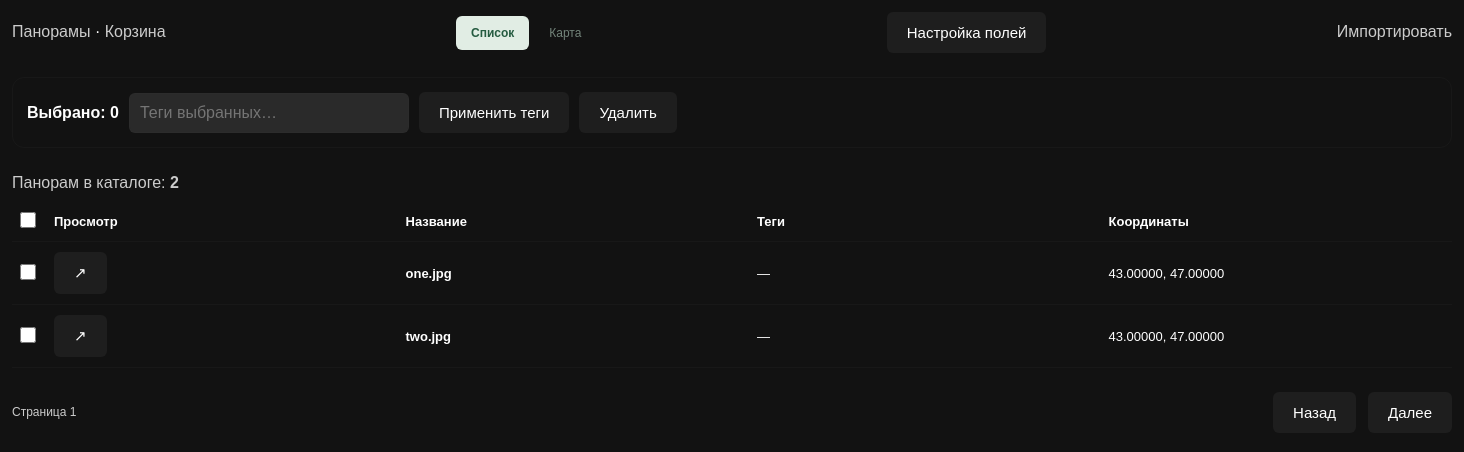
Test: delete uses reversible trash and deleted entries disappear from the list
Click the checkbox named "Выбрать one.jpg": point(28, 272) top-left (20, 264), bottom-right (36, 280)
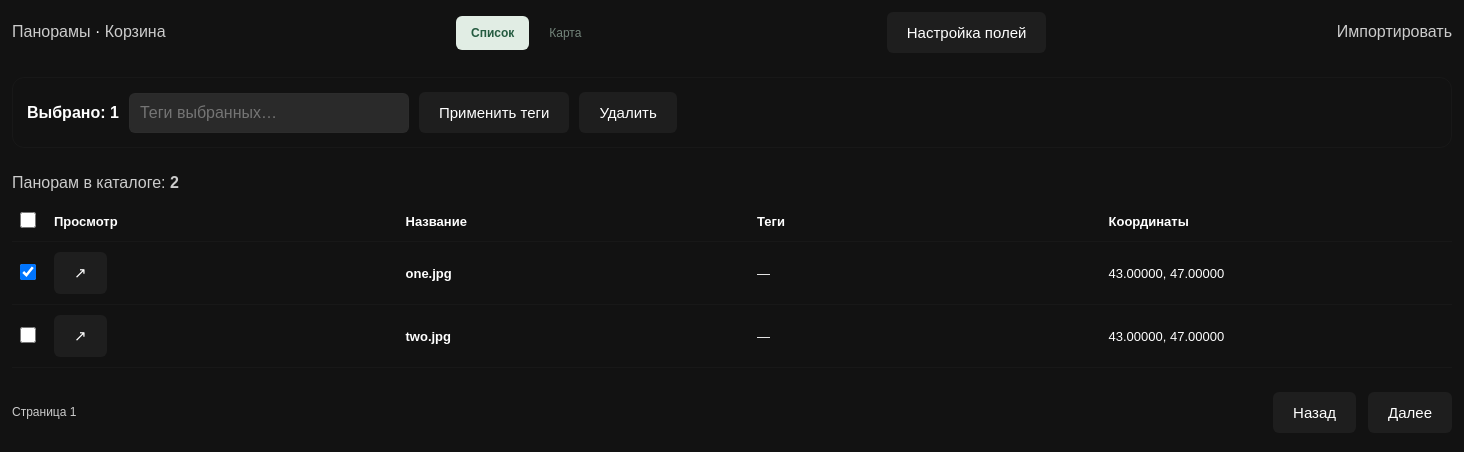
Click the button "Удалить": point(628, 112) top-left (580, 92), bottom-right (677, 133)
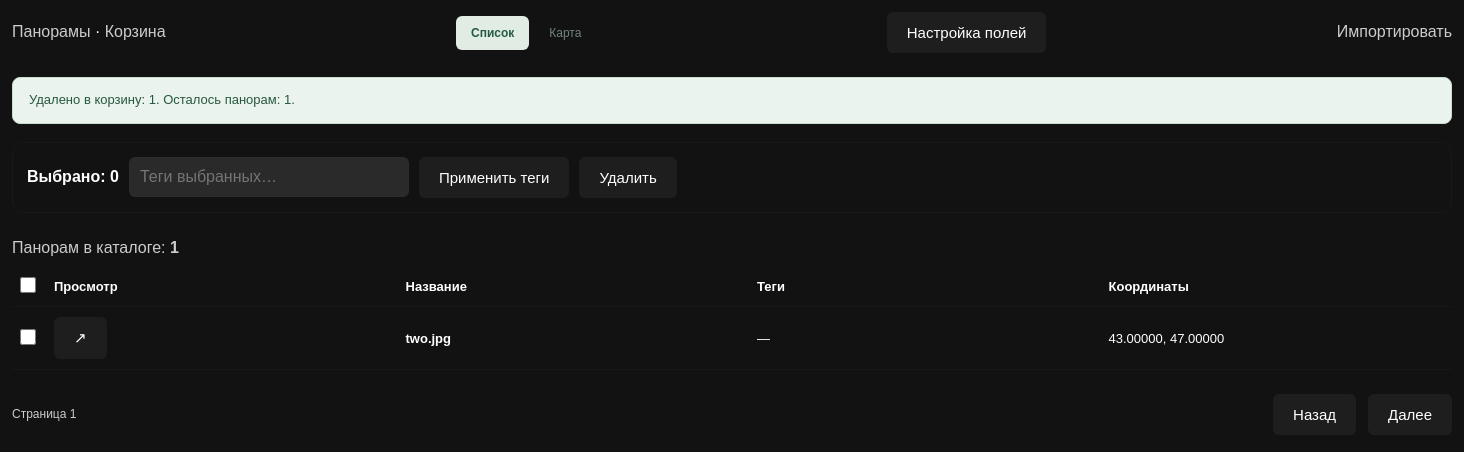
Expected: the text "two.jpg" is shown, top-left (398, 307), bottom-right (749, 370)
Result: the text "one.jpg" is gone
Result: the message reads "Удалено в корзину: 1. Осталось панорам: 1." at top-left (29, 92), bottom-right (295, 107)
